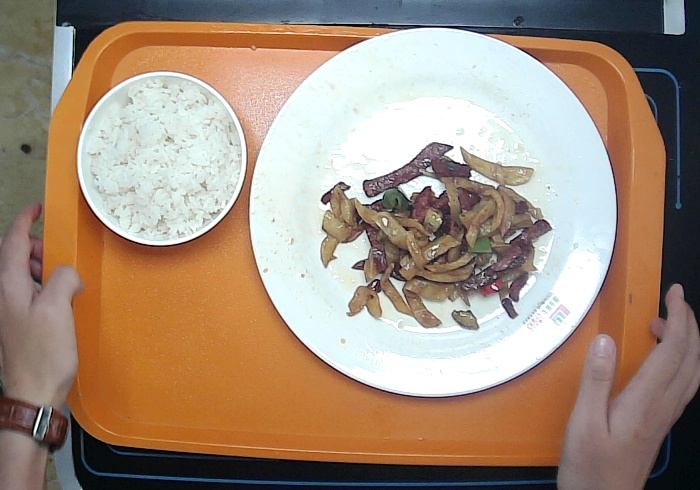ZNLD-Da_Yuan_Pan: (246, 25, 620, 400)
ZNLD-Fan_Wan: (73, 68, 250, 249)
